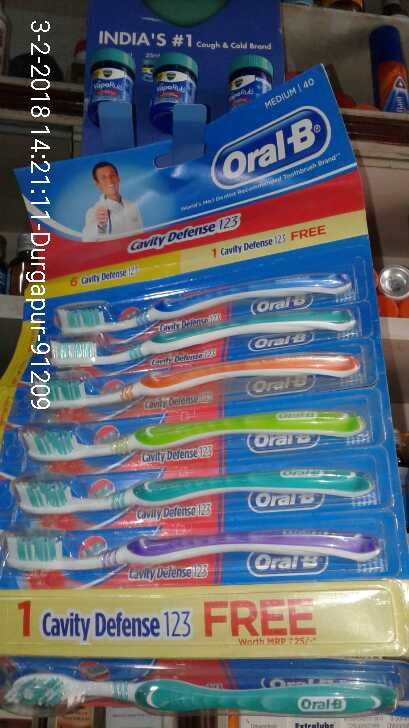oralb: (7, 279, 381, 570), (6, 662, 401, 718)
